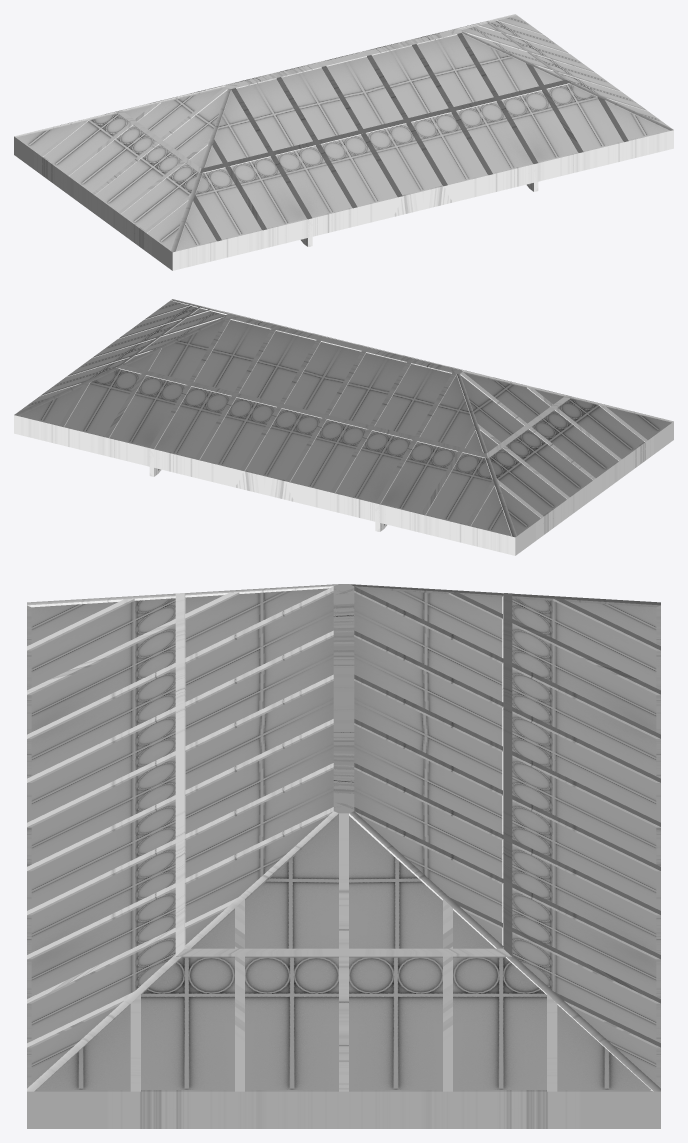
The model's file is Skylight.obj.
3 renders of one model, top to bottom at view 1: azimuth 30°, elevation 25°; view 2: azimuth 150°, elevation 25°; view 3: azimuth 270°, elevation 25°, orthographic. The views are drawn at different scales.
Visible parts, largest first — view 1: Window_Plane_01_low, Components, Window_Plane_02_low; view 2: Window_Plane_01_low, Components, Window_Plane_02_low; view 3: Window_Plane_01_low, Components, Window_Plane_02_low.
Boxes of the visible parts, <box> form: Window_Plane_01_low: <box>176,34,667,249</box>; Components: <box>14,14,673,270</box>; Window_Plane_02_low: <box>18,16,667,249</box>; Window_Plane_01_low: <box>20,319,511,534</box>; Components: <box>14,299,673,555</box>; Window_Plane_02_low: <box>20,301,669,534</box>; Window_Plane_01_low: <box>31,588,656,1083</box>; Components: <box>27,584,660,1128</box>; Window_Plane_02_low: <box>37,816,650,1089</box>.
Bounding box in the file's own units: 68.87 × 13.38 × 37.73.
4 materials, 2 textured.
